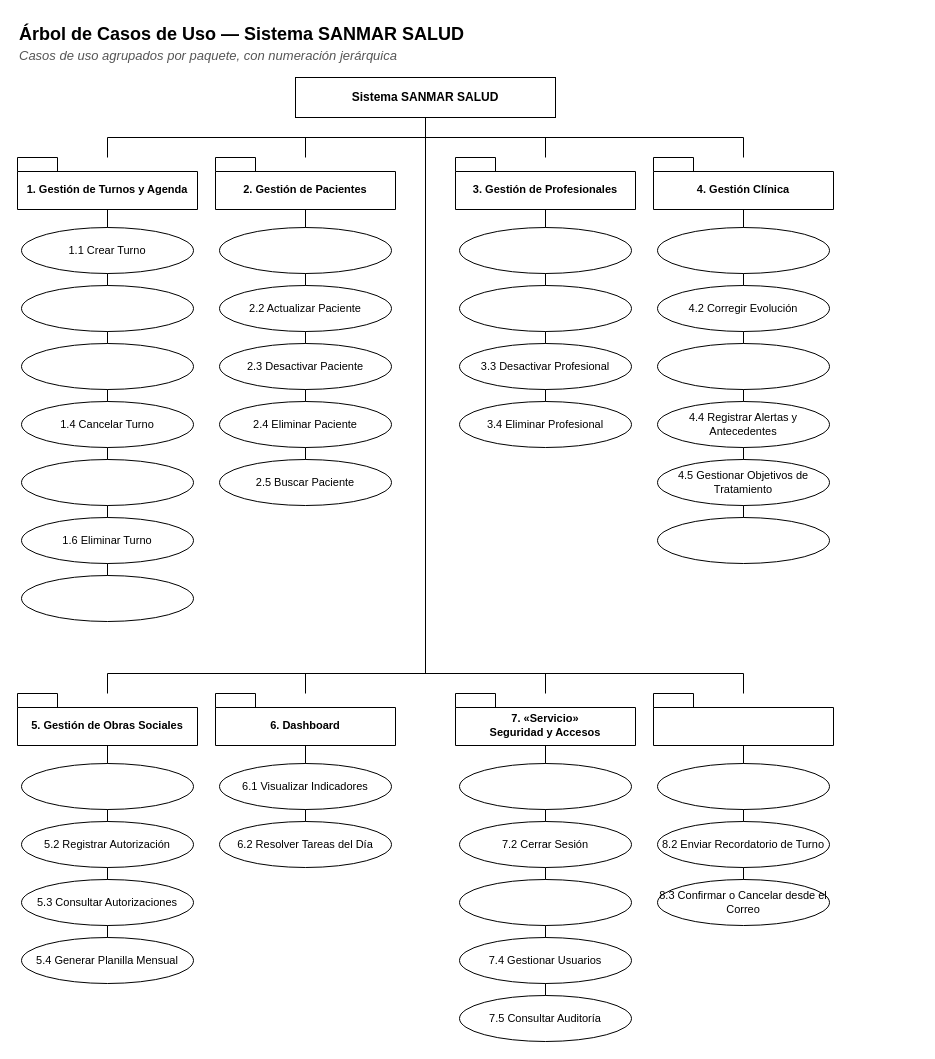
The diagram is 935 pixels wide and 1059 high, and some of its shapes have lost their labels. Here are the shapes that lost their labels. From the top down, the centre of each, then its label:
pixel 305 250: 2.1 Registrar Paciente
pixel 545 250: 3.1 Registrar Profesional
pixel 743 250: 4.1 Registrar Evolución
pixel 107 308: 1.2 Reprogramar Turno
pixel 545 308: 3.2 Actualizar Profesional
pixel 107 366: 1.3 Confirmar Turno
pixel 743 366: 4.3 Consultar Historia Clínica
pixel 107 482: 1.5 Registrar Asistencia
pixel 743 540: 4.6 Consultar Registro de Accesos
pixel 107 598: 1.7 Consultar Agenda
pixel 743 719: 8. «Servicio» Notificaciones
pixel 107 786: 5.1 Gestionar Catálogo de Obras Sociales
pixel 545 786: 7.1 Iniciar Sesión
pixel 743 786: 8.1 Enviar Notificación de Turno
pixel 545 902: 7.3 Cambiar Contraseña
